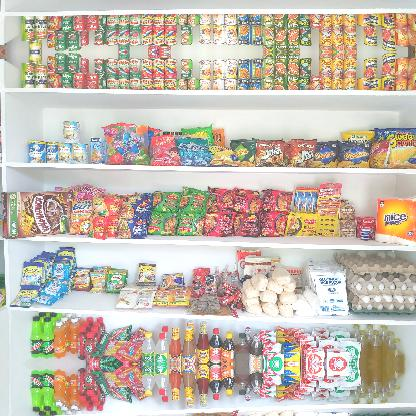Koko-Krunch: (2, 190, 76, 240)
